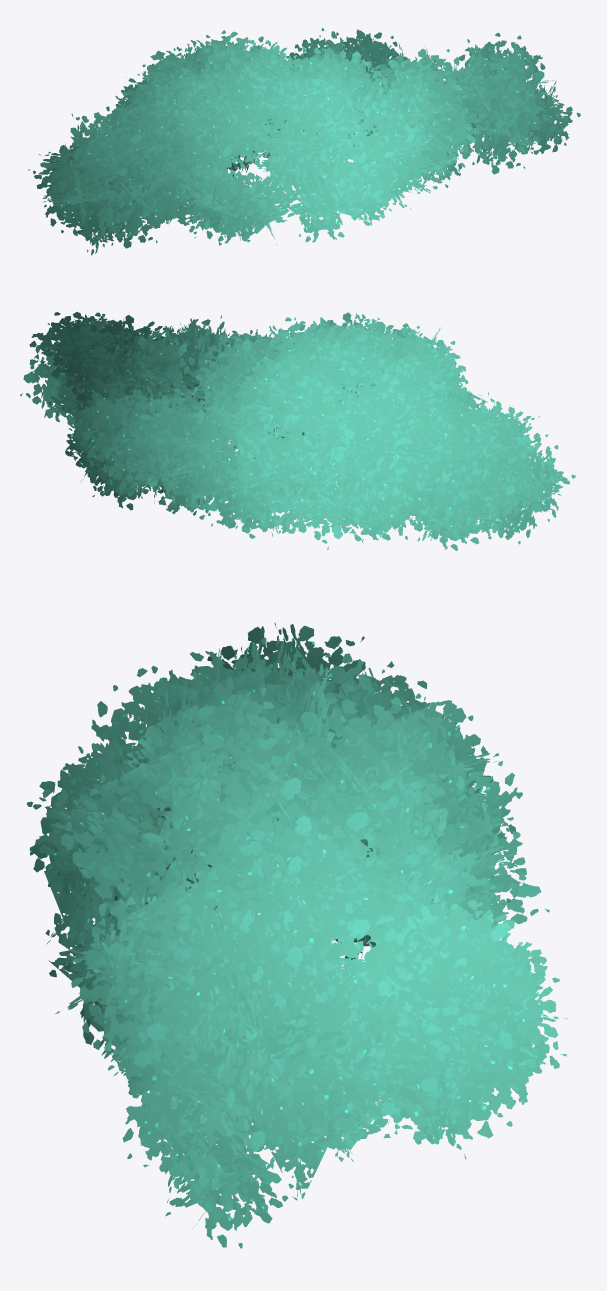
File: SM_ENV_bush_ancient_02.fbx
The picture shows the model from 3 angles, top to bottom: view 1: azimuth 30°, elevation 25°; view 2: azimuth 150°, elevation 25°; view 3: azimuth 270°, elevation 25°; orthographic projection. The views are drawn at different scales.
Parts seen in each view (by area): view 1: SM_ENV_bush_ancient_02_LOD0; view 2: SM_ENV_bush_ancient_02_LOD0; view 3: SM_ENV_bush_ancient_02_LOD0.
Part boxes in pixels (<box>): SM_ENV_bush_ancient_02_LOD0: <box>28,28,580,255</box>; SM_ENV_bush_ancient_02_LOD0: <box>20,311,575,550</box>; SM_ENV_bush_ancient_02_LOD0: <box>27,622,568,1248</box>.
Size of the model in its own units: 288 by 103 by 149.
